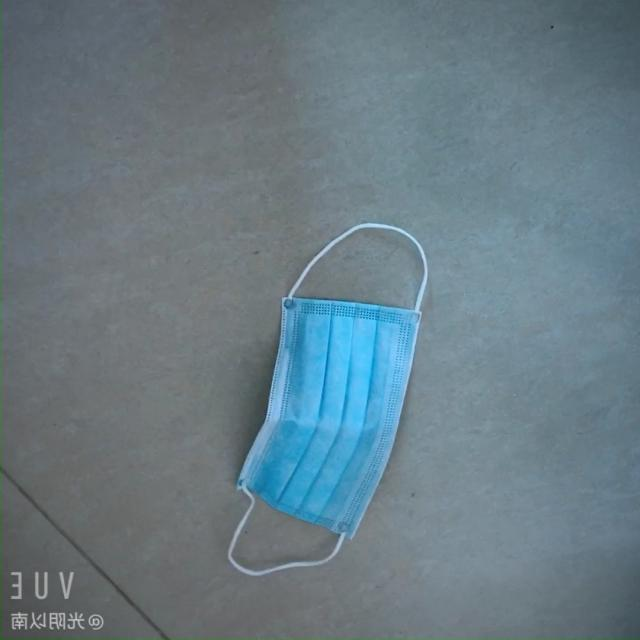face mask: (236, 210, 422, 590)
